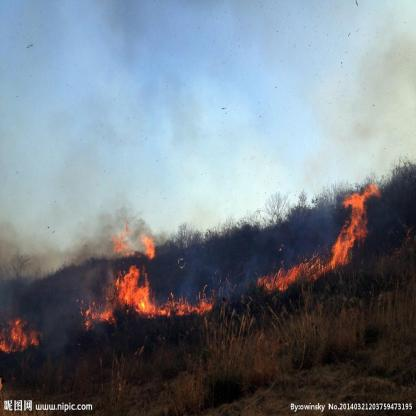fire: (76, 215, 220, 334), (326, 184, 372, 259), (1, 306, 52, 354), (250, 256, 338, 282)
